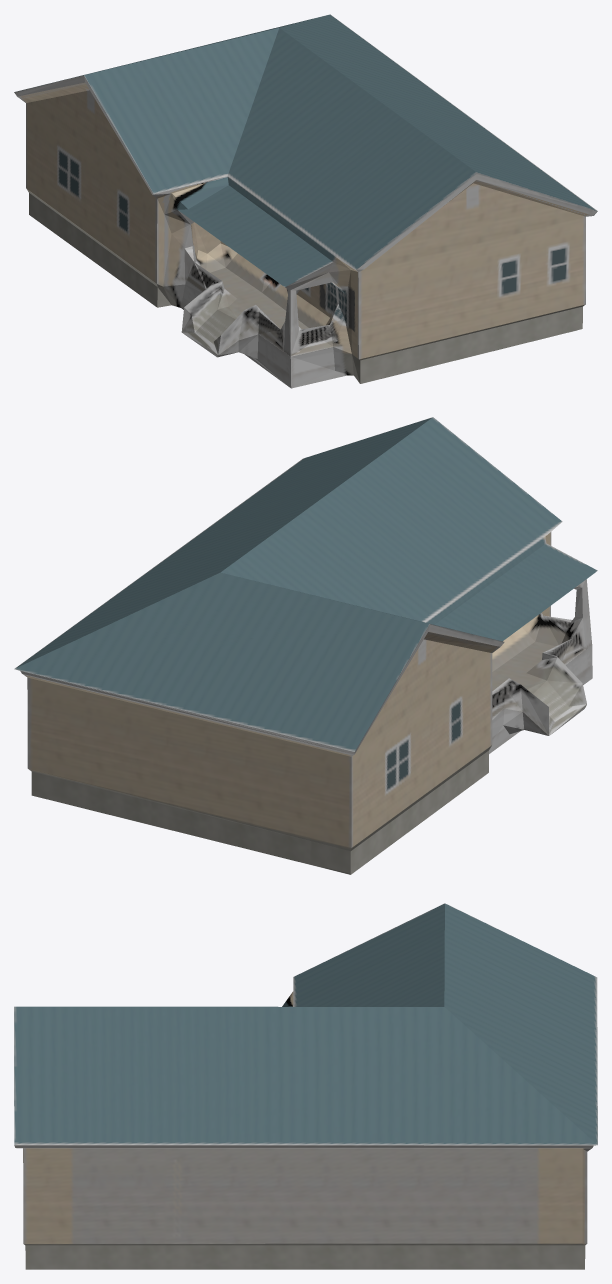
Rendered from SM_Proxy_House_05.fbx.
The picture shows the model from 3 angles, top to bottom: view 1: azimuth 30°, elevation 25°; view 2: azimuth 150°, elevation 25°; view 3: azimuth 270°, elevation 25°; orthographic projection. The views are drawn at different scales.
Visible parts, largest first — view 1: SM_Proxy_House_05_LOD0; view 2: SM_Proxy_House_05_LOD0; view 3: SM_Proxy_House_05_LOD0.
Part boxes in pixels (x1,y1,x2,y2): SM_Proxy_House_05_LOD0: [14, 14, 597, 388]; SM_Proxy_House_05_LOD0: [14, 417, 597, 874]; SM_Proxy_House_05_LOD0: [14, 903, 597, 1269].
Size of the model in its own units: 1222 by 1756 by 688.
